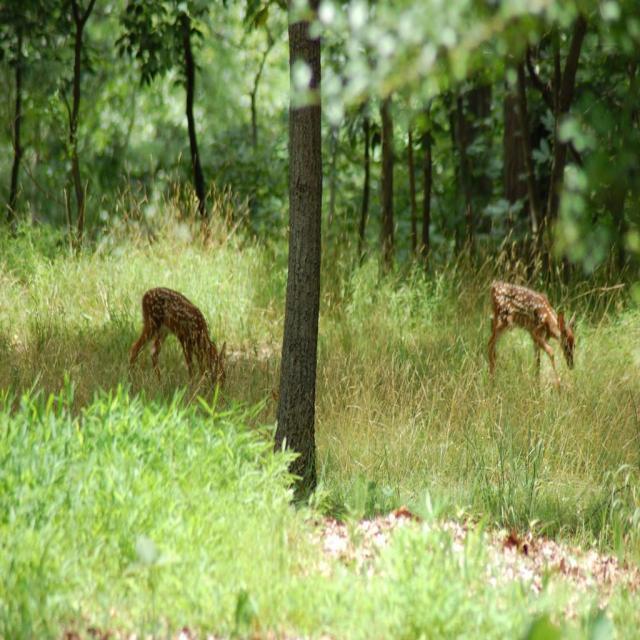Deer: (128, 289, 223, 404), (484, 278, 575, 391)
